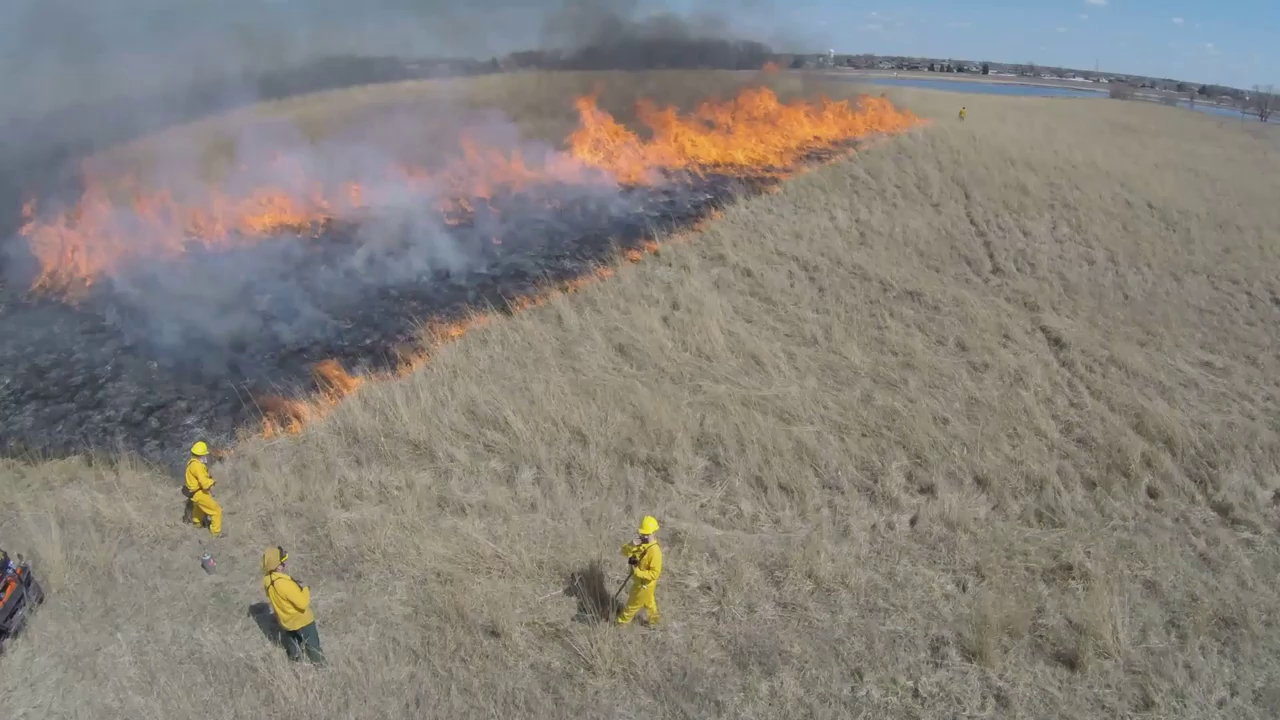forest_fire: (392, 86, 923, 224), (125, 183, 373, 256), (19, 187, 149, 294), (263, 359, 364, 434)
